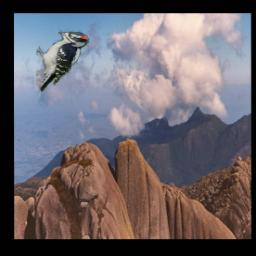Woodpecker: (36, 30, 90, 93)
